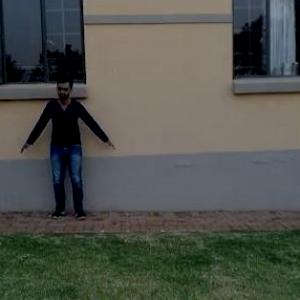land: (27, 70, 127, 238)
